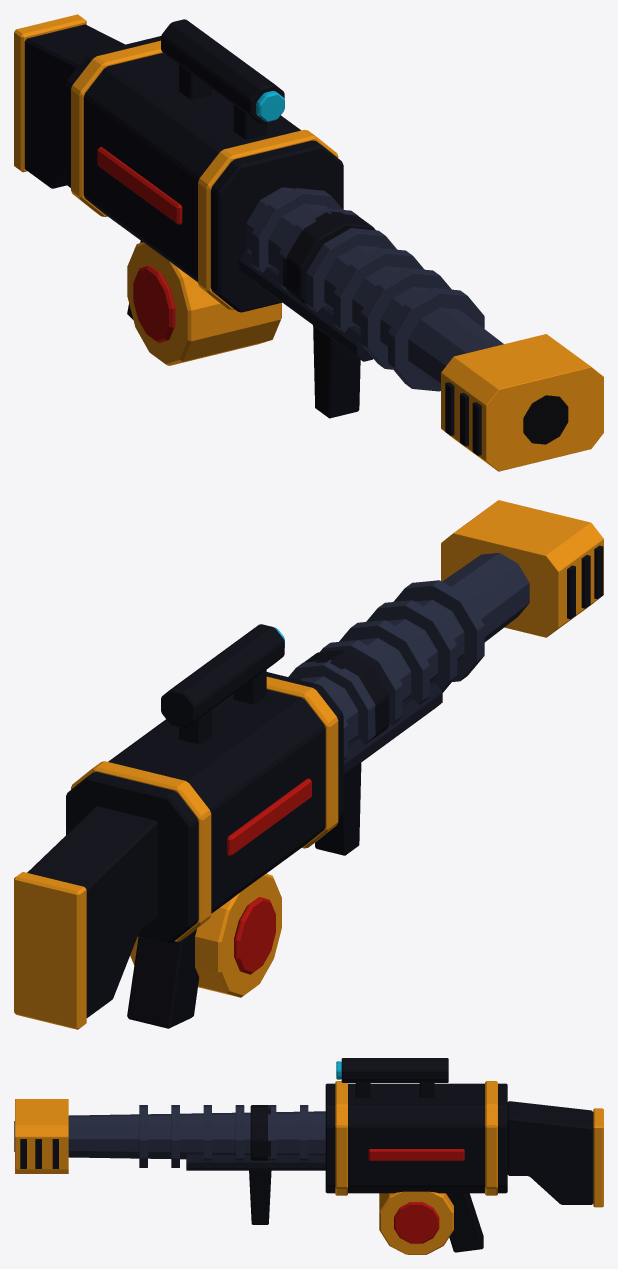
File: myw_titancannon.obj
3 renders of one model, top to bottom at view 1: azimuth 30°, elevation 25°; view 2: azimuth 150°, elevation 25°; view 3: azimuth 270°, elevation 25°, orthographic. The views are drawn at different scales.
Parts seen in each view (by area): view 1: Body, Barrel, Scope, Drum; view 2: Body, Barrel, Scope, Drum; view 3: Body, Barrel, Scope, Drum.
Part boxes in pixels (x1,y1,x2,y2): Body: (14, 14, 343, 319); Barrel: (238, 187, 603, 471); Scope: (161, 19, 375, 418); Drum: (127, 242, 281, 365); Body: (14, 672, 343, 1029); Barrel: (288, 500, 603, 774); Scope: (161, 624, 389, 855); Drum: (130, 873, 281, 997); Body: (325, 1081, 603, 1252); Barrel: (14, 1099, 325, 1173); Scope: (249, 1058, 448, 1224); Drum: (379, 1191, 453, 1254).
Bounding box in the file's own units: 0.86 × 1.93 × 5.51.
